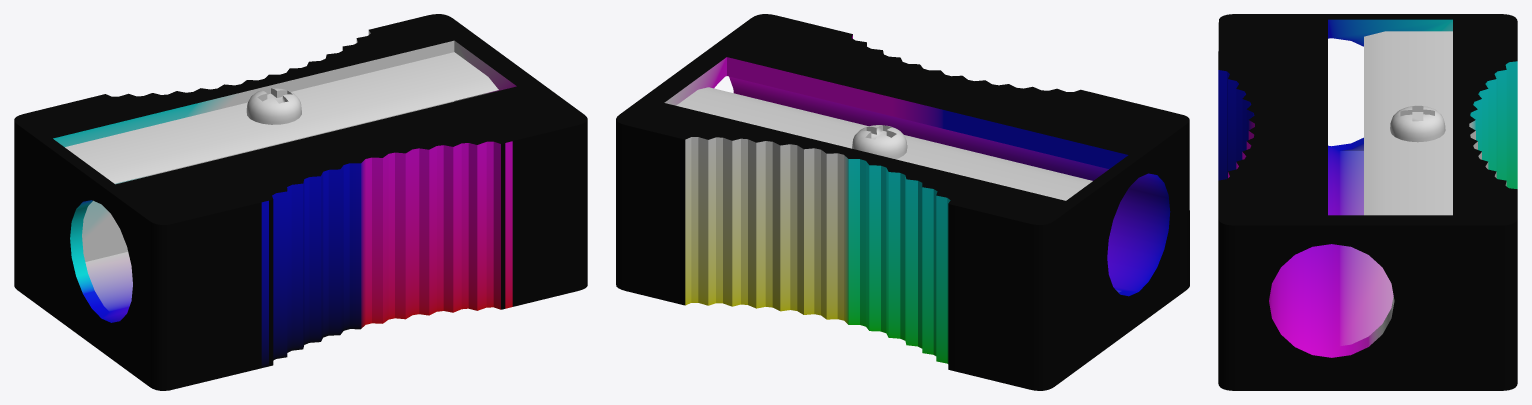
File: PencilSharpener.fbx
3 views of the same model, side by side, from view 1: azimuth 30°, elevation 25°; view 2: azimuth 150°, elevation 25°; view 3: azimuth 270°, elevation 25° (orthographic).
Parts seen in each view (by area): view 1: Box001; view 2: Box001; view 3: Box001.
Part boxes in pixels (x1=…): Box001: x1=14, y1=14, x2=587, y2=390; Box001: x1=616, y1=14, x2=1189, y2=390; Box001: x1=1218, y1=14, x2=1517, y2=390.
Bounding box in the file's own units: 89.48 × 34.03 × 53.46.
